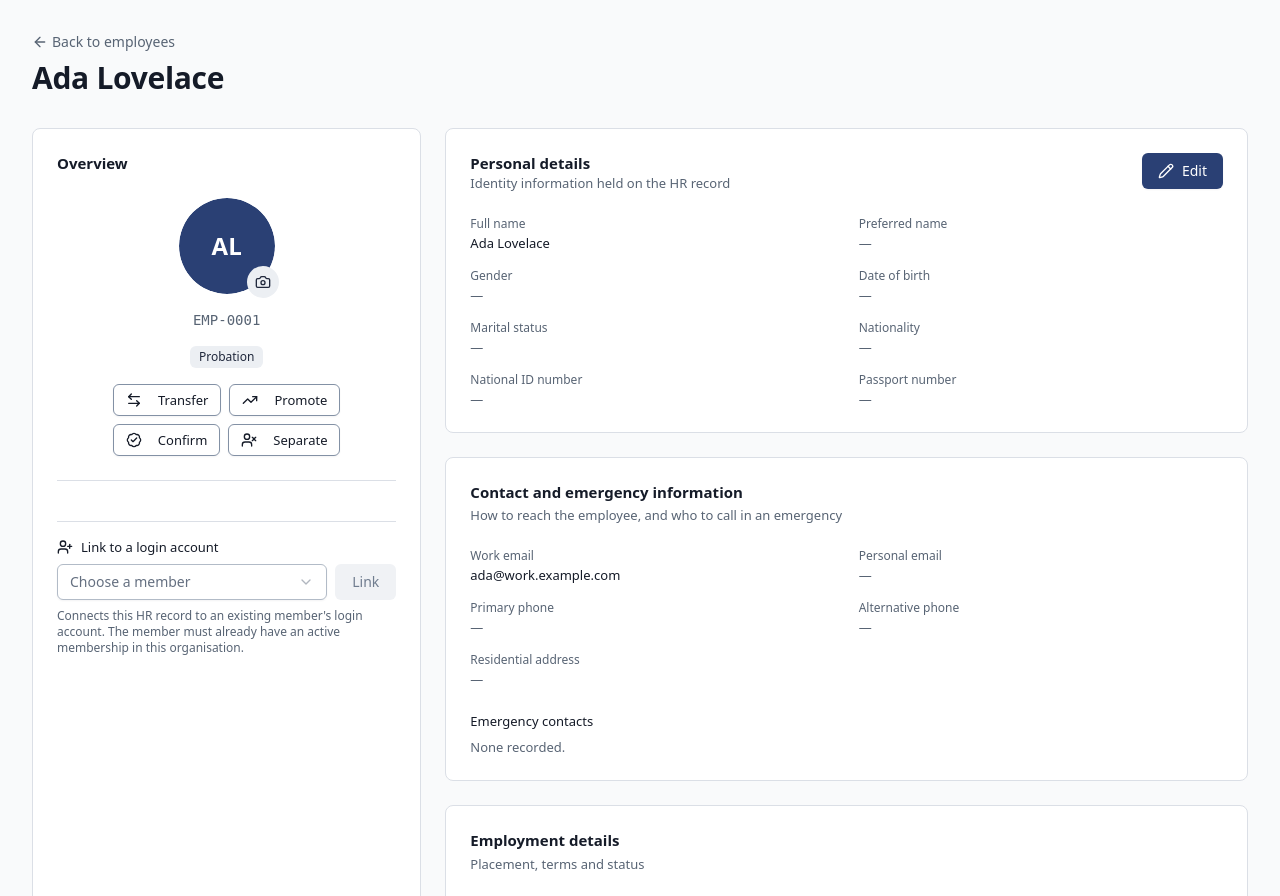
Test case: Employee detail page › Confirm dialog — probation-review prepopulation (Phase 3H, W118) › offers only this employee's probation-cycle reviews, not reviews from a normal cycle
The width and height of the screenshot is (1280, 896).
Click the button with test id "button-confirm-employee-probation" at (167,440), box [113, 424, 220, 456]
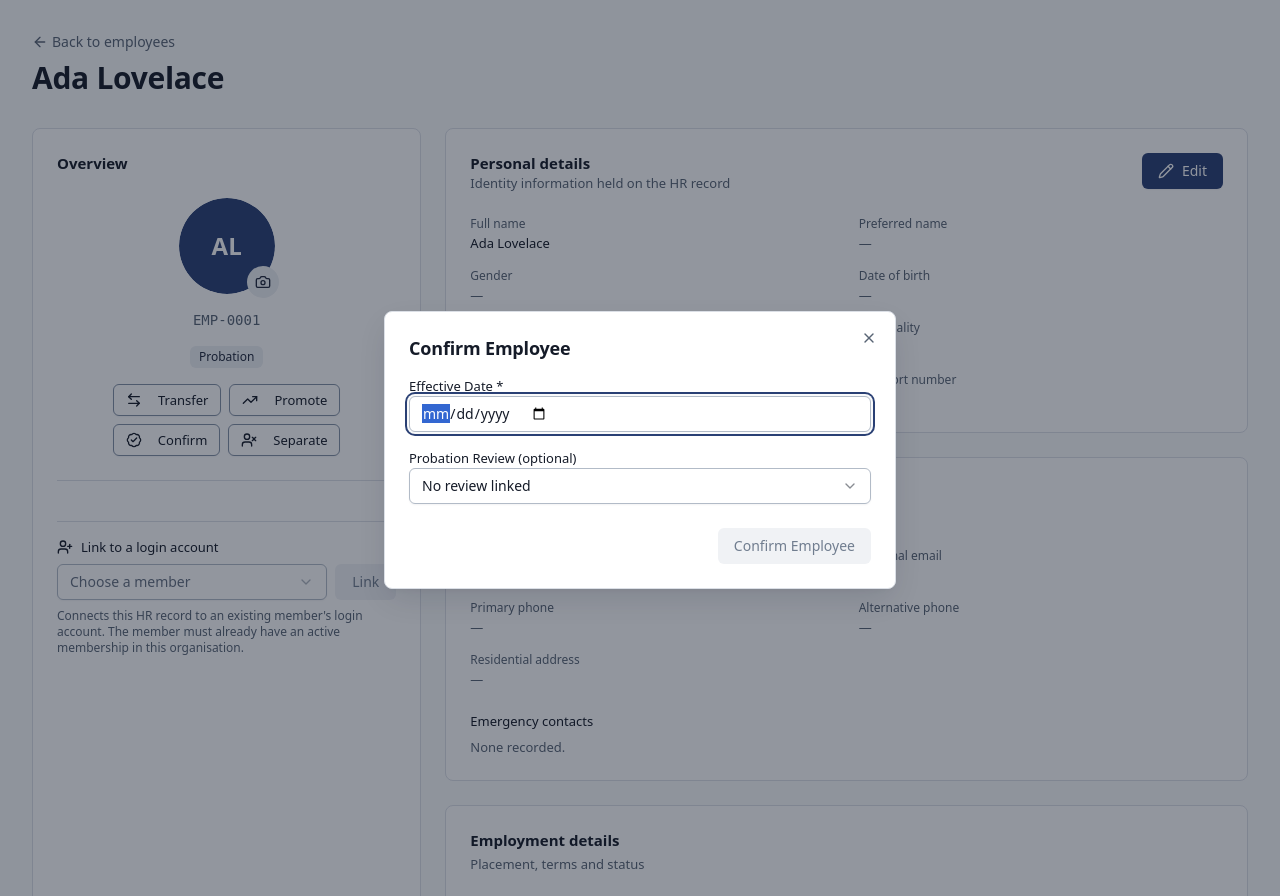
Click the dropdown with test id "select-confirm-probation-review-id" at (476,486), box [409, 468, 871, 504]
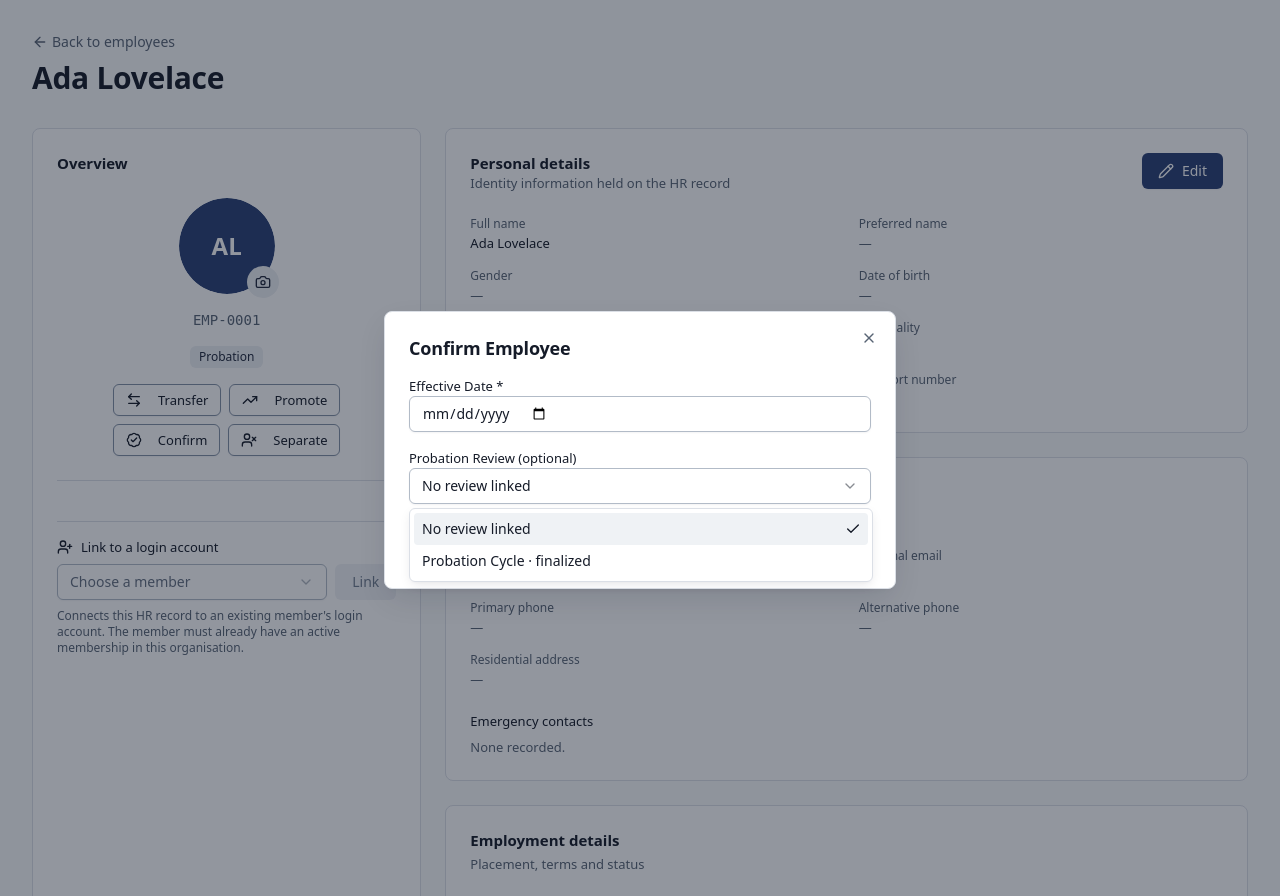
Check: the option "Probation Cycle · finalized" is shown, box [422, 551, 591, 570]
